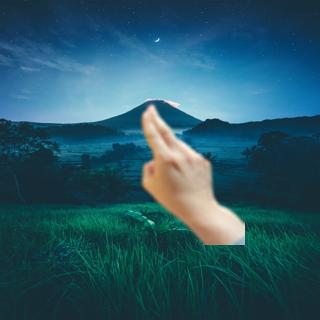DHAVE: (133, 99, 223, 218)
